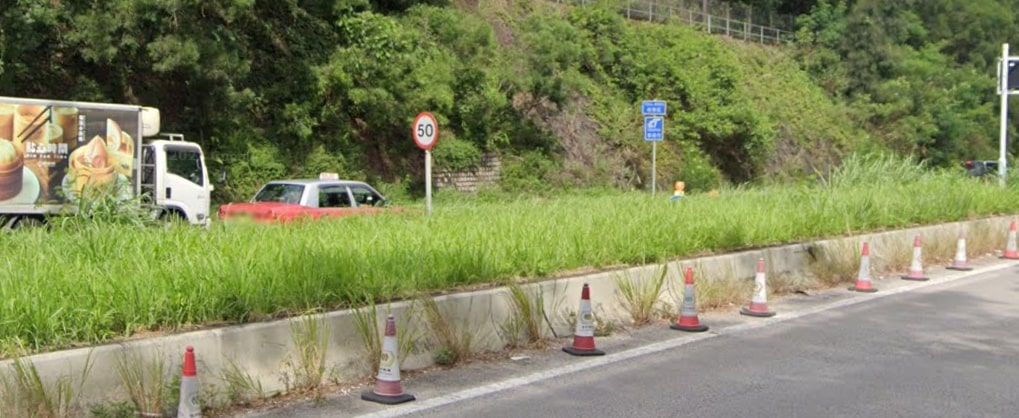Speed Limit: (414, 104, 435, 151)
